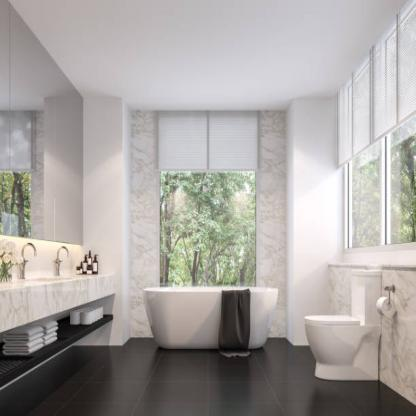Window: (161, 172, 255, 288), (341, 112, 416, 251)
